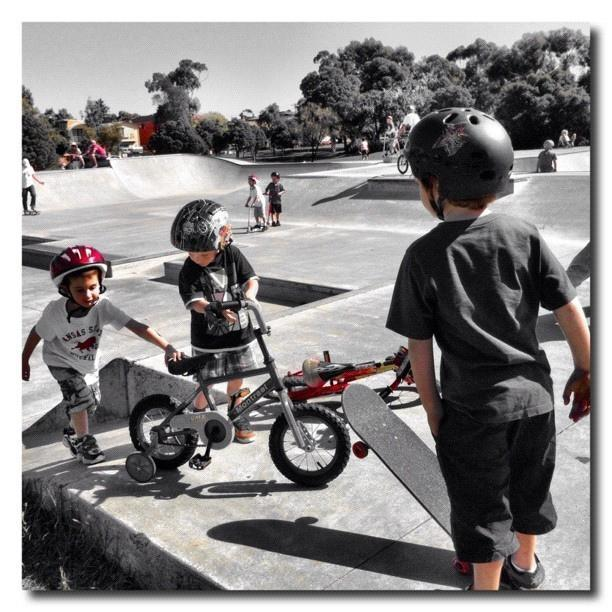bicycle: (128, 292, 352, 449), (284, 344, 416, 402)
